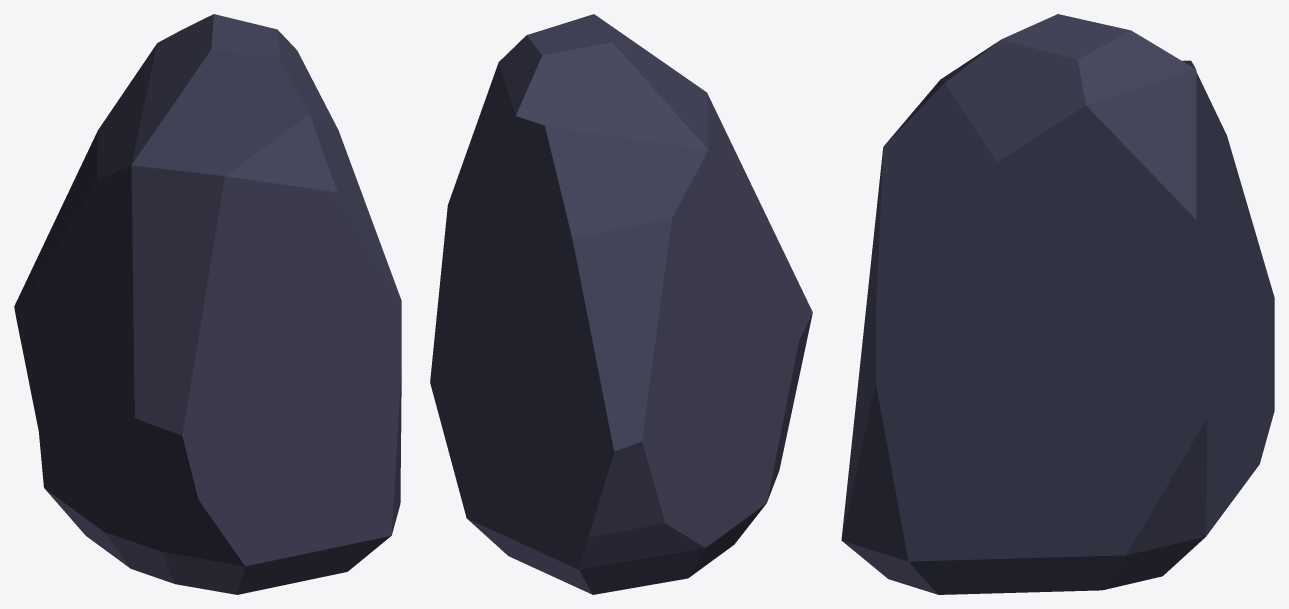
Rendered from Stone_2.fbx.
The picture shows the model from 3 angles, left to right: view 1: azimuth 30°, elevation 25°; view 2: azimuth 150°, elevation 25°; view 3: azimuth 270°, elevation 25°; orthographic projection. The views are drawn at different scales.
Visible parts, largest first — view 1: Cube.480; view 2: Cube.480; view 3: Cube.480.
Boxes of the visible parts, left/top/right/bottom form: Cube.480: left=14, top=14, right=401, bottom=594; Cube.480: left=430, top=14, right=812, bottom=594; Cube.480: left=841, top=14, right=1274, bottom=594.
Size of the model in its own units: 139 by 256 by 188.
